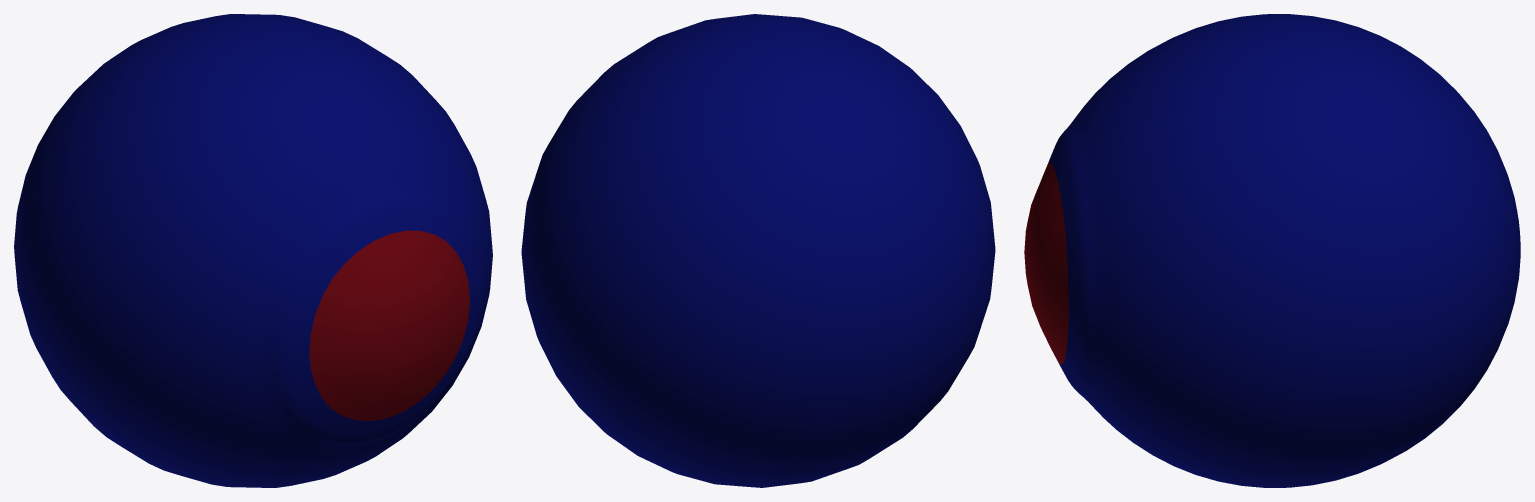
File: eyeright.fbx
3 renders of one model, left to right at view 1: azimuth 30°, elevation 25°; view 2: azimuth 150°, elevation 25°; view 3: azimuth 270°, elevation 25°, orthographic.
Parts seen in each view (by area): view 1: squidGameDoll_02_mata.001; view 2: squidGameDoll_02_mata.001; view 3: squidGameDoll_02_mata.001.
Part boxes in pixels (bbox=[...]): squidGameDoll_02_mata.001: bbox=[14, 14, 492, 487]; squidGameDoll_02_mata.001: bbox=[521, 14, 995, 487]; squidGameDoll_02_mata.001: bbox=[1024, 14, 1520, 487].
Bounding box in the file's own units: 59.19 × 59.2 × 61.89.
